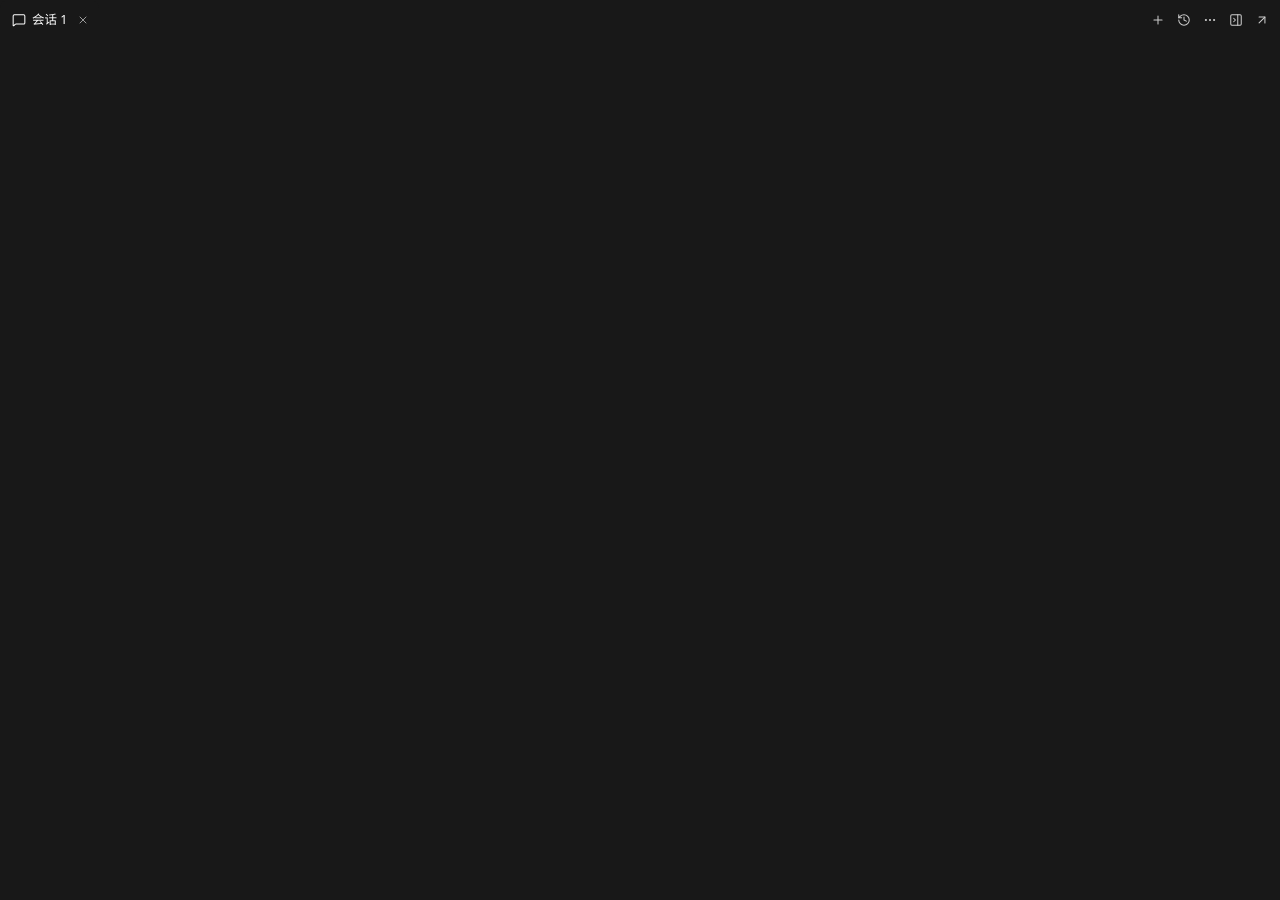
Test: <ThreadTabs> history popover › clears the previous search after picking a history result
Click the button named "历史会话": (1184, 20) [1172,8,1196,32]
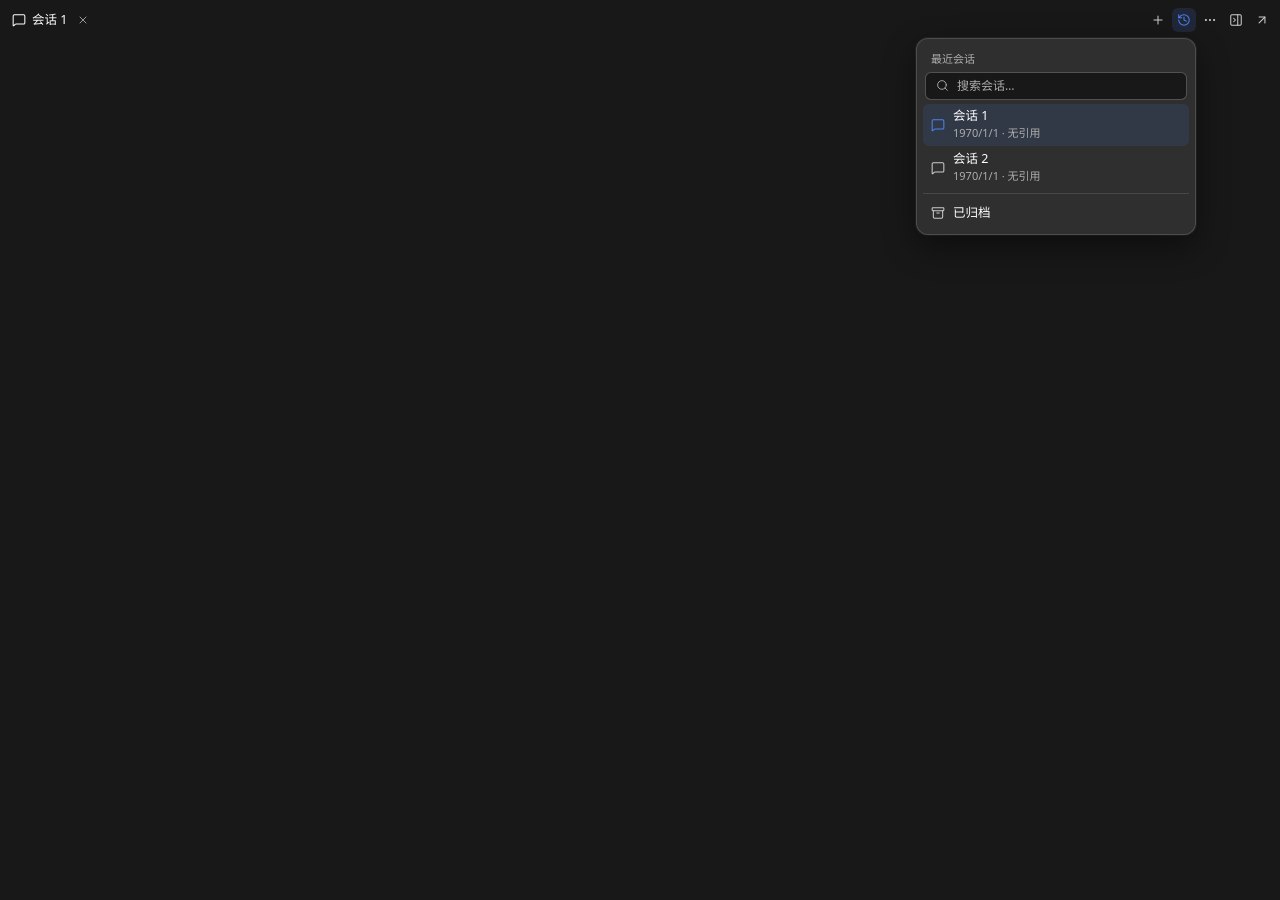
In the search field: (1068, 86) [957,72,1180,98], type "会话 2"
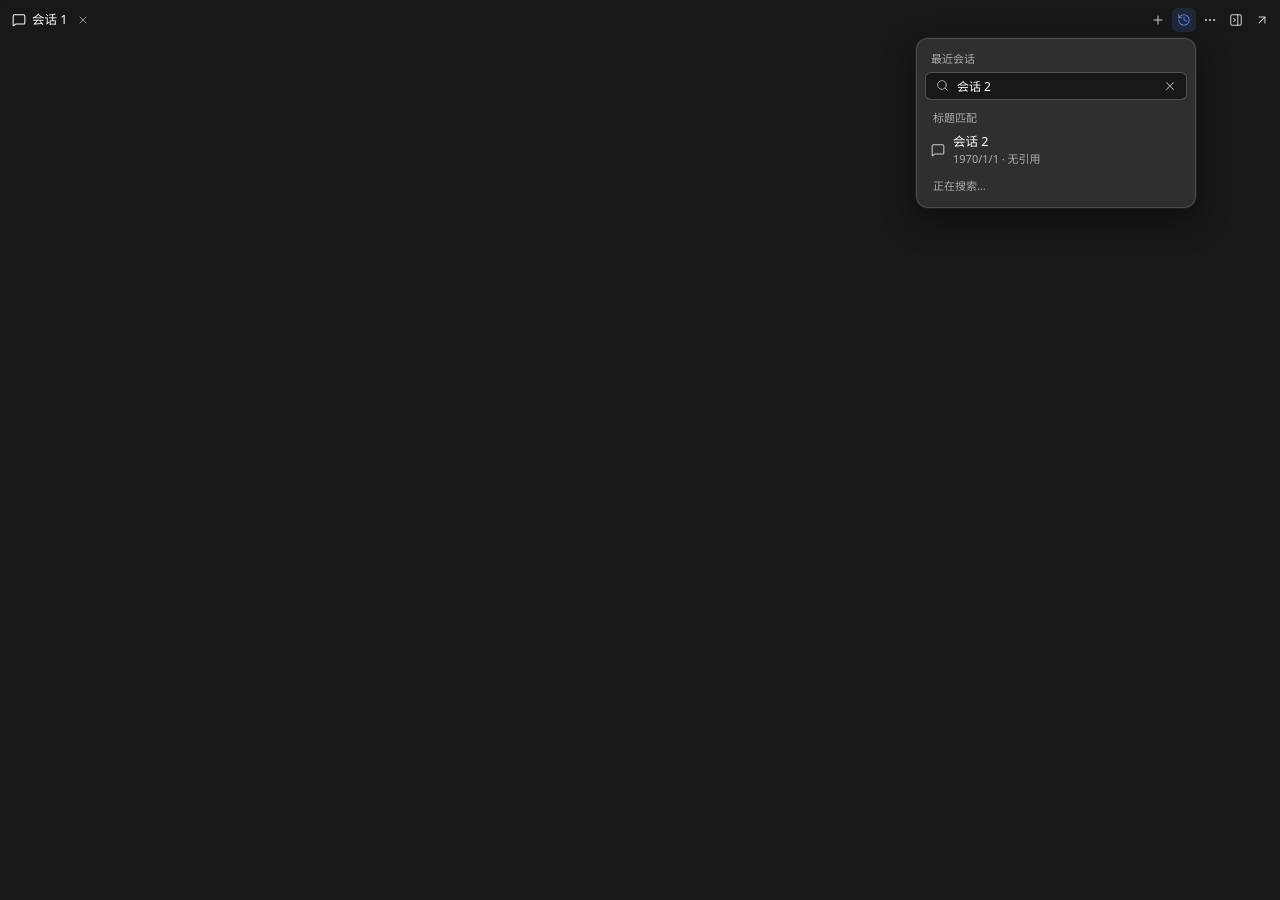
Click the option "会话 2 1970/1/1 · 无引用": (986, 149) [931,132,1041,166]
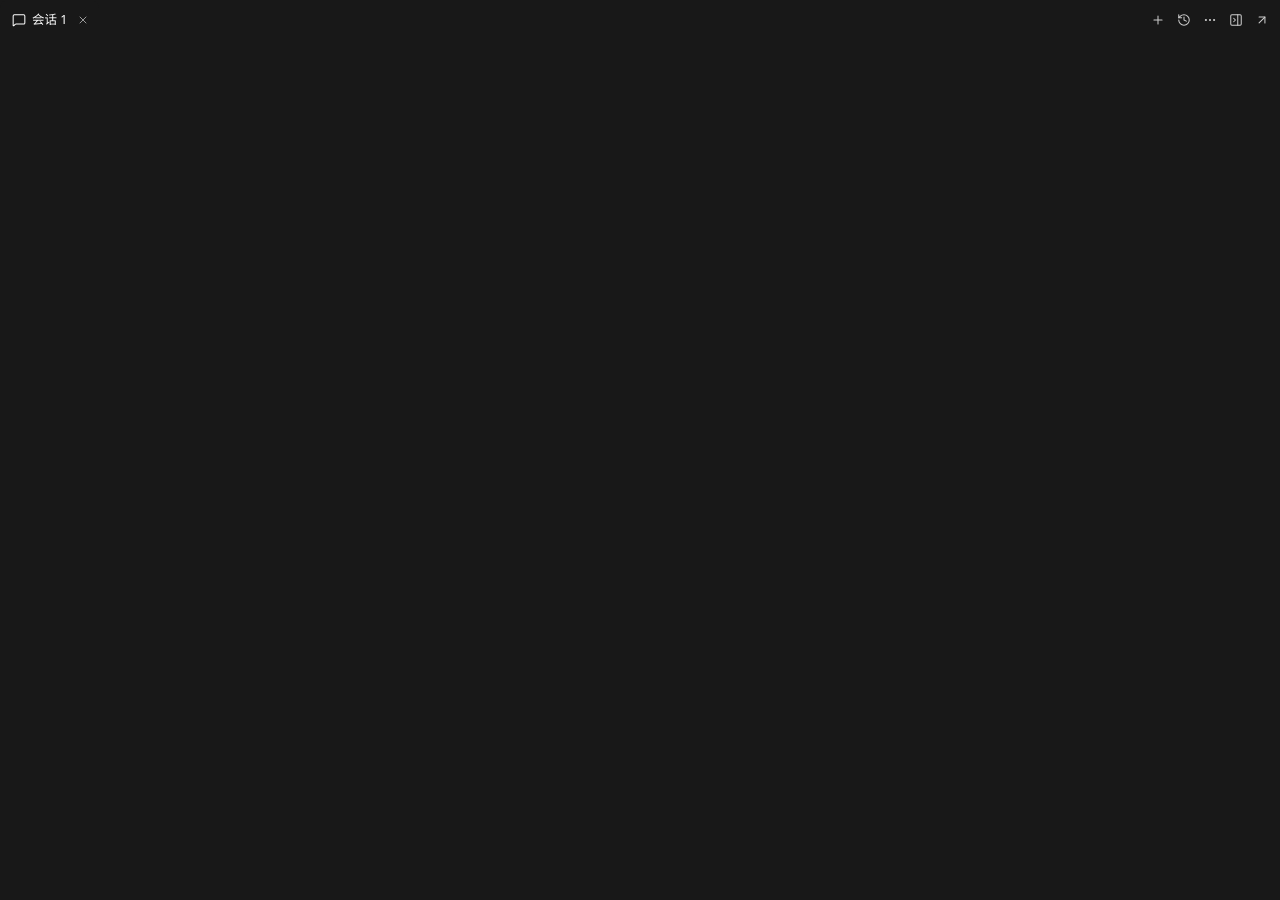
Click the button named "历史会话": (1184, 20) [1172,8,1196,32]
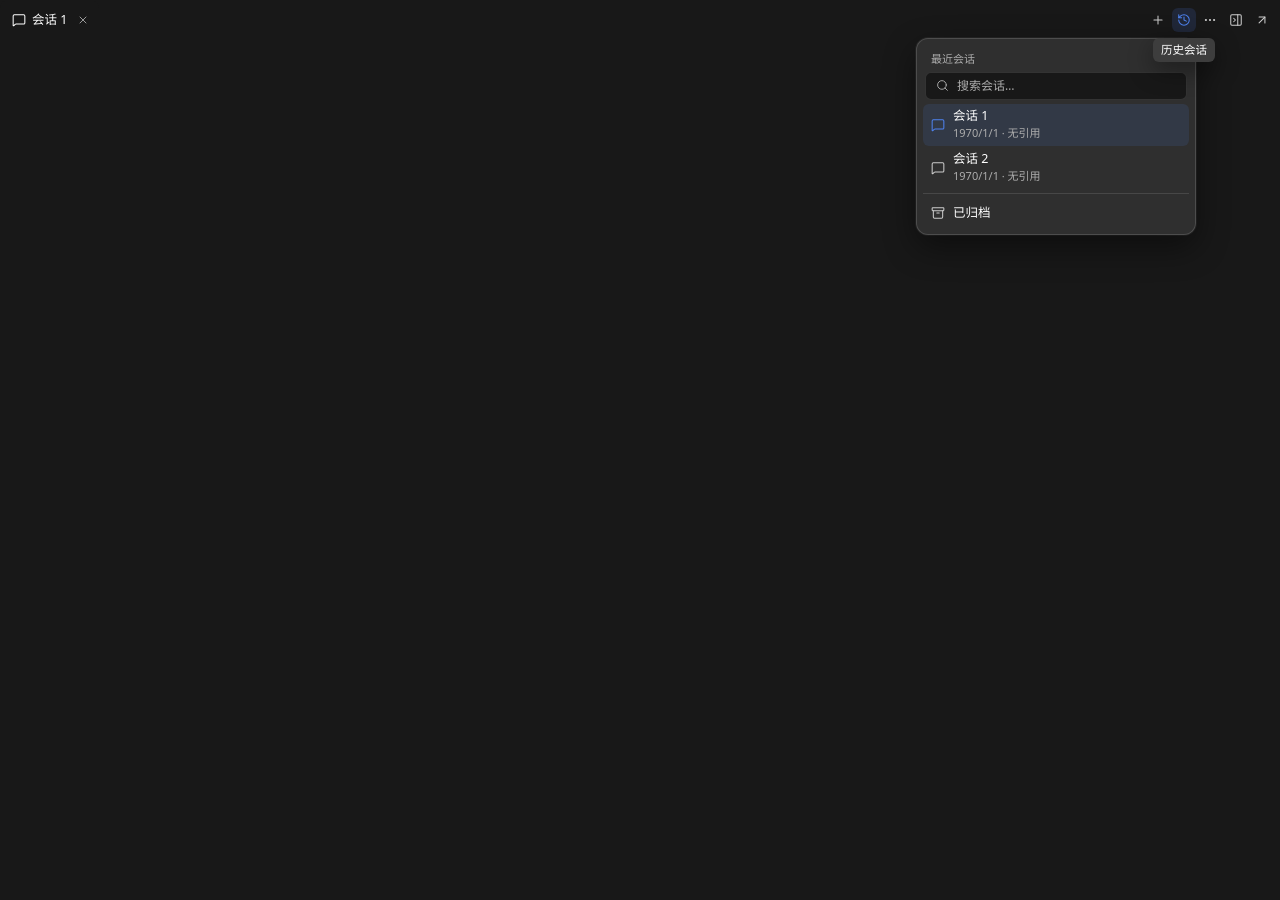
Now the number of options is 2, box [923,104,1189,146]; [931,150,1041,183]
Now the search field is empty, box [957,72,1180,98]
